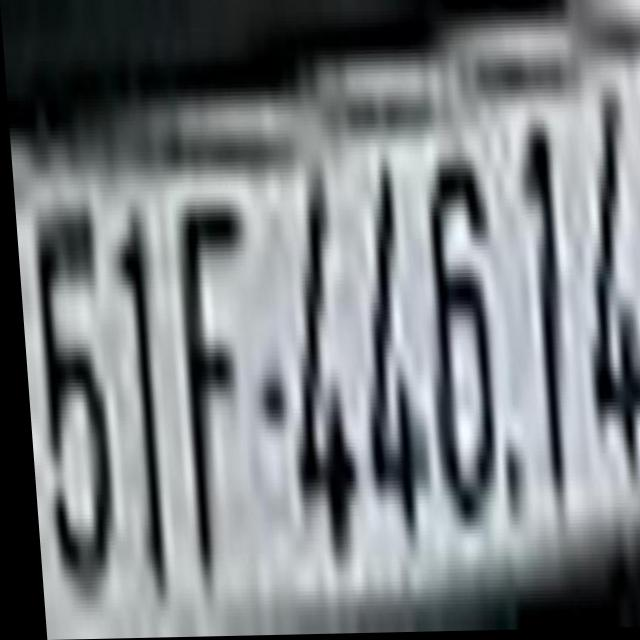1: (501, 72, 570, 507), (111, 195, 171, 592)
4: (269, 161, 357, 581), (338, 152, 422, 561), (563, 82, 640, 494)
5: (21, 181, 113, 582)
6: (408, 119, 499, 525)
F: (156, 186, 263, 583)
